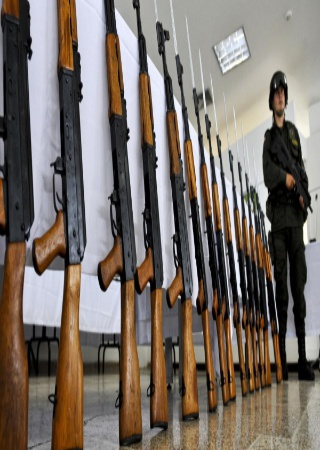rifle: (27, 1, 95, 449), (152, 10, 207, 421), (95, 2, 142, 449), (1, 3, 44, 450), (134, 2, 168, 436)
